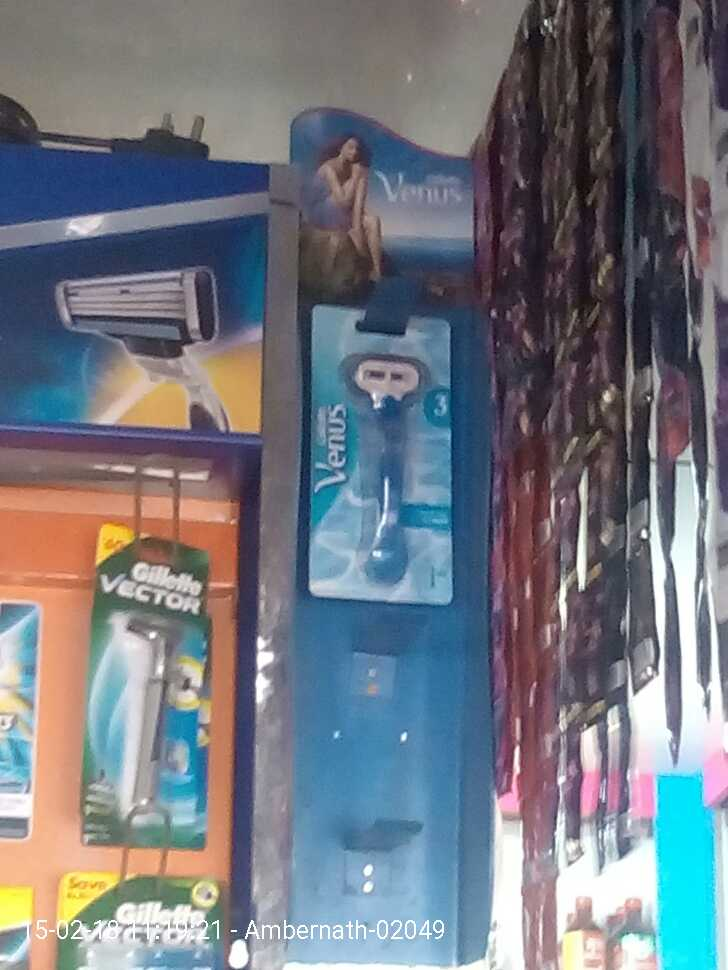beauty: (78, 521, 221, 837), (309, 298, 454, 595)
